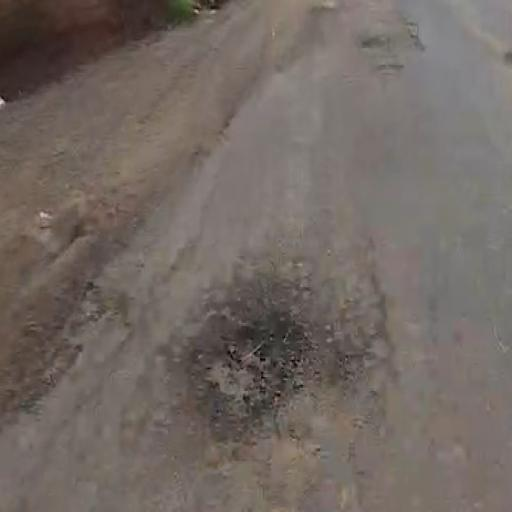alligator_crack: (276, 216, 444, 409), (197, 223, 326, 332)
edge_damage: (15, 240, 136, 434)
ravelling: (182, 336, 293, 447)
